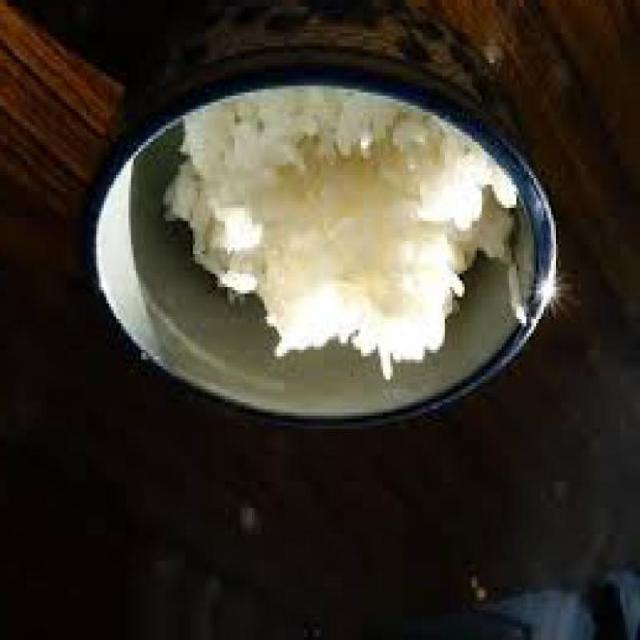nasi_putih: (163, 85, 514, 380)
